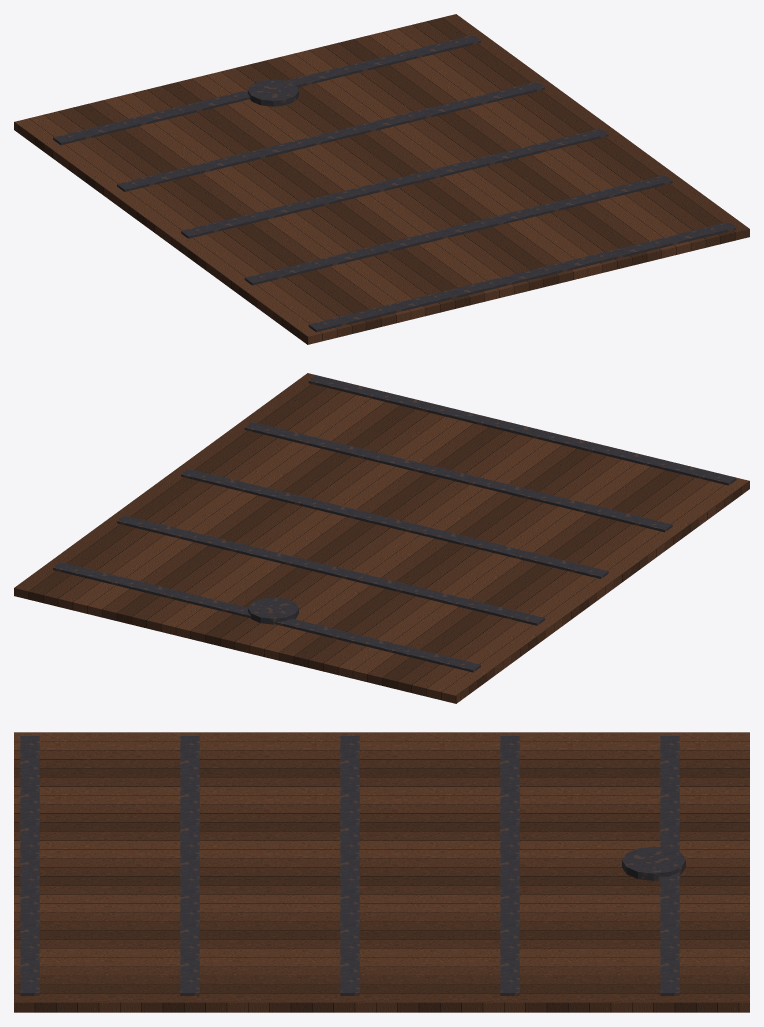
The model's file is citadel_tunnel_lid.glb.
The picture shows the model from 3 angles, top to bottom: view 1: azimuth 30°, elevation 25°; view 2: azimuth 150°, elevation 25°; view 3: azimuth 270°, elevation 25°; orthographic projection. The views are drawn at different scales.
Parts seen in each view (by area): view 1: tlid_Old_Wood, tlid_Black_Iron; view 2: tlid_Old_Wood, tlid_Black_Iron; view 3: tlid_Old_Wood, tlid_Black_Iron.
Part boxes in pixels (box(x1,y1,x2,y2)): tlid_Old_Wood: box(14, 14, 749, 344); tlid_Black_Iron: box(53, 35, 736, 332); tlid_Old_Wood: box(14, 373, 749, 703); tlid_Black_Iron: box(53, 375, 736, 672); tlid_Old_Wood: box(14, 732, 749, 1012); tlid_Black_Iron: box(20, 736, 685, 995).
Size of the model in its own units: 8 by 0.24 by 9.2.
Materials: 2 (2 with a texture image).
